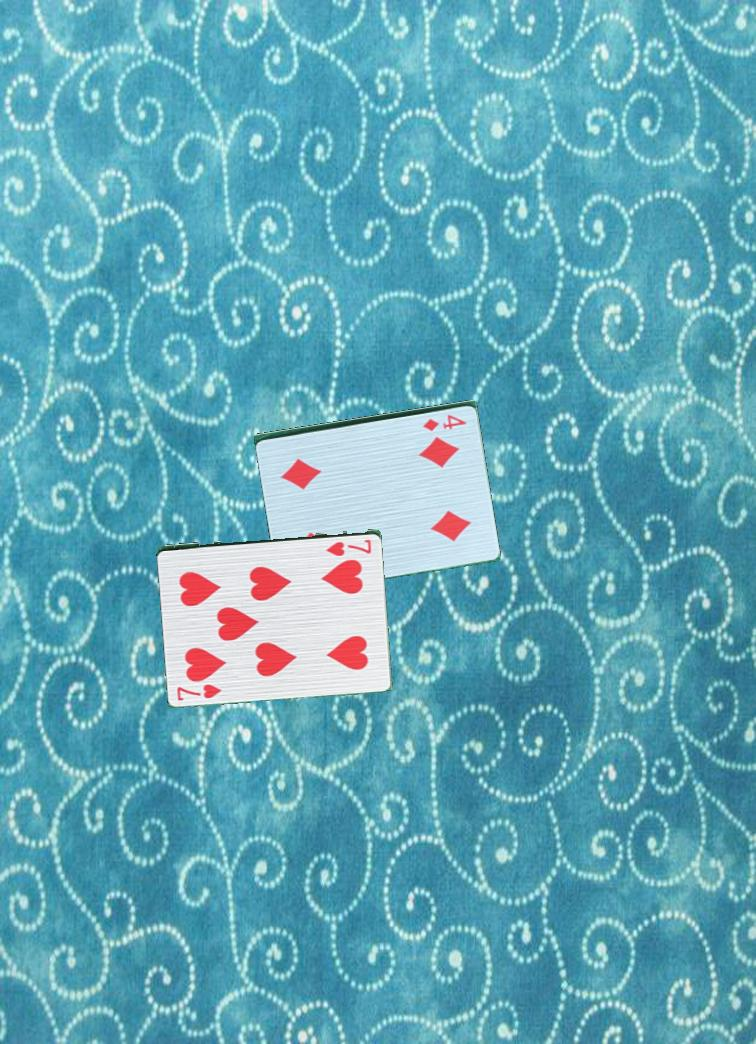4d: (420, 410, 469, 432)
7h: (170, 678, 228, 704), (323, 535, 378, 558)
